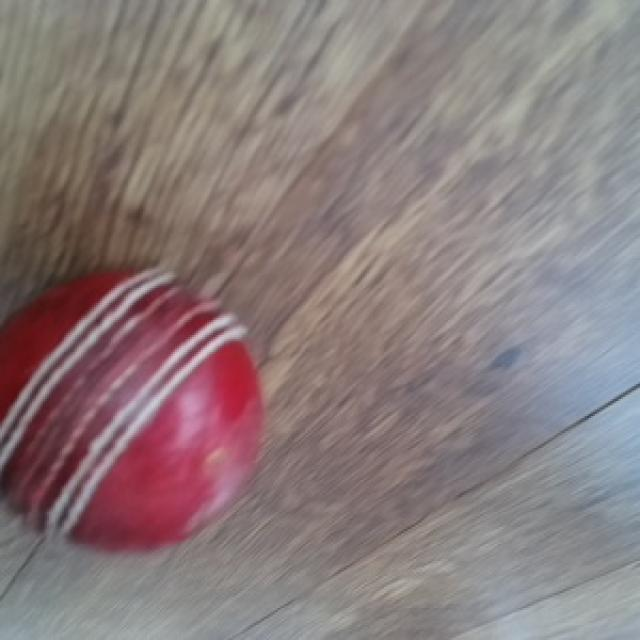ball: (0, 269, 267, 557)
